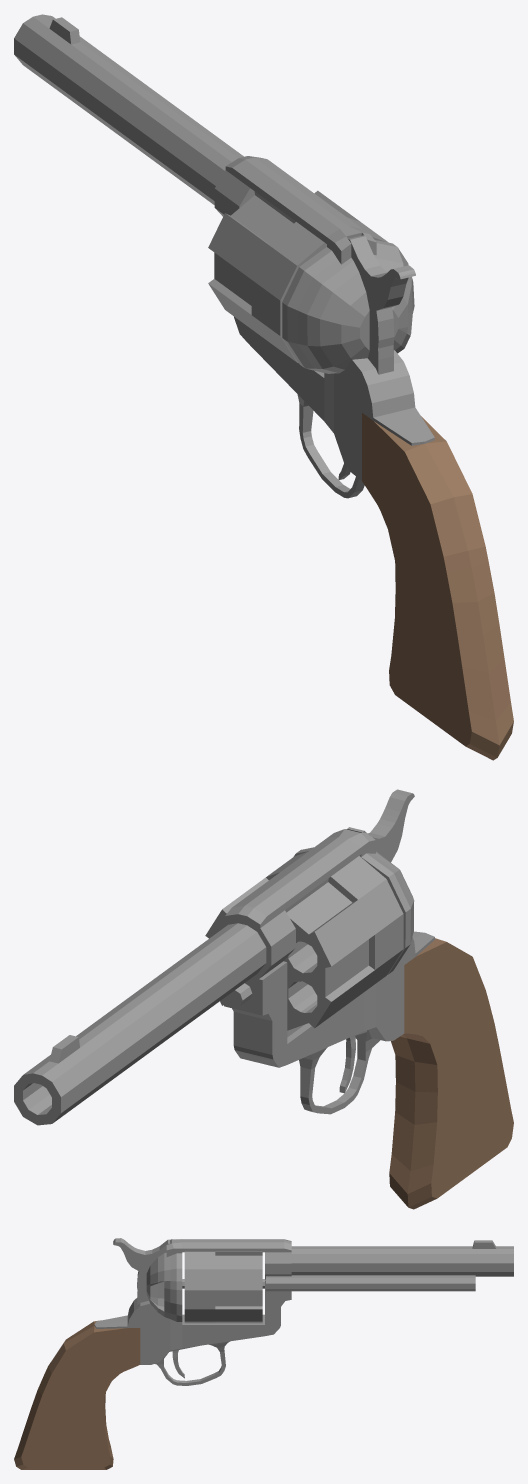
File: Colt Revolver.fbx
3 renders of one model, top to bottom at view 1: azimuth 30°, elevation 25°; view 2: azimuth 150°, elevation 25°; view 3: azimuth 270°, elevation 25°, orthographic. The views are drawn at different scales.
Parts seen in each view (by area): view 1: Colt Revolver; view 2: Colt Revolver; view 3: Colt Revolver.
Boxes of the visible parts, left/top/right/bottom form: Colt Revolver: left=14, top=14, right=513, bottom=760; Colt Revolver: left=14, top=789, right=513, bottom=1209; Colt Revolver: left=14, top=1238, right=513, bottom=1469.
Size of the model in its own units: 5.04 by 16.18 by 31.89.
